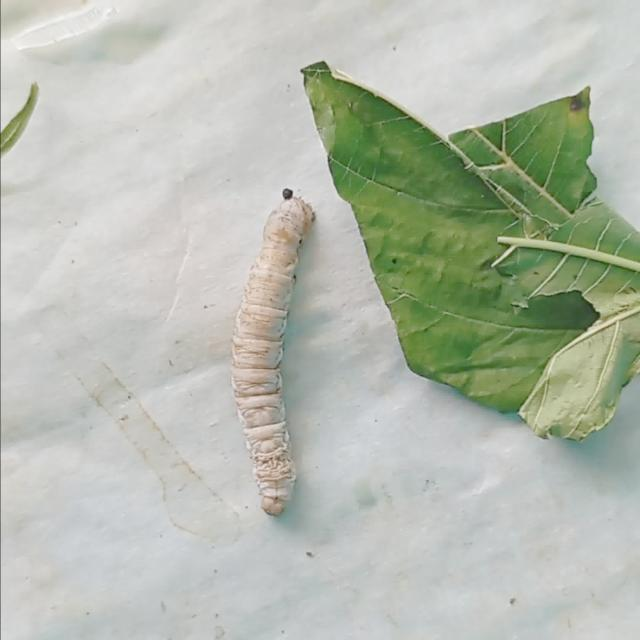Grasserie: (205, 165, 378, 535)
